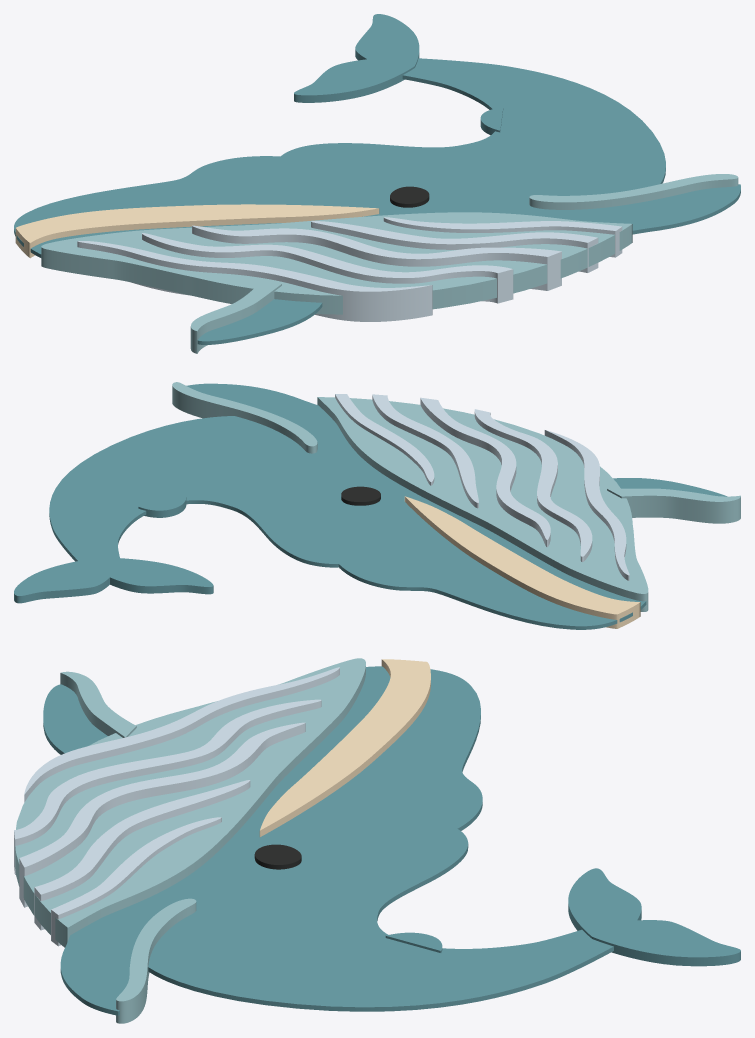
File: emoji_u1f40b.glb
3 renders of one model, top to bottom at view 1: azimuth 30°, elevation 25°; view 2: azimuth 150°, elevation 25°; view 3: azimuth 270°, elevation 25°, orthographic. The views are drawn at different scales.
Visible parts, largest first — view 1: emoji_u1f40b; view 2: emoji_u1f40b; view 3: emoji_u1f40b.
Boxes of the visible parts, x1,y1,x2,y2 form: emoji_u1f40b: (14,14,740,353); emoji_u1f40b: (14,382,740,629); emoji_u1f40b: (14,658,740,1023).
Size of the model in its own units: 0.0331 by 0.0018 by 0.0294.
